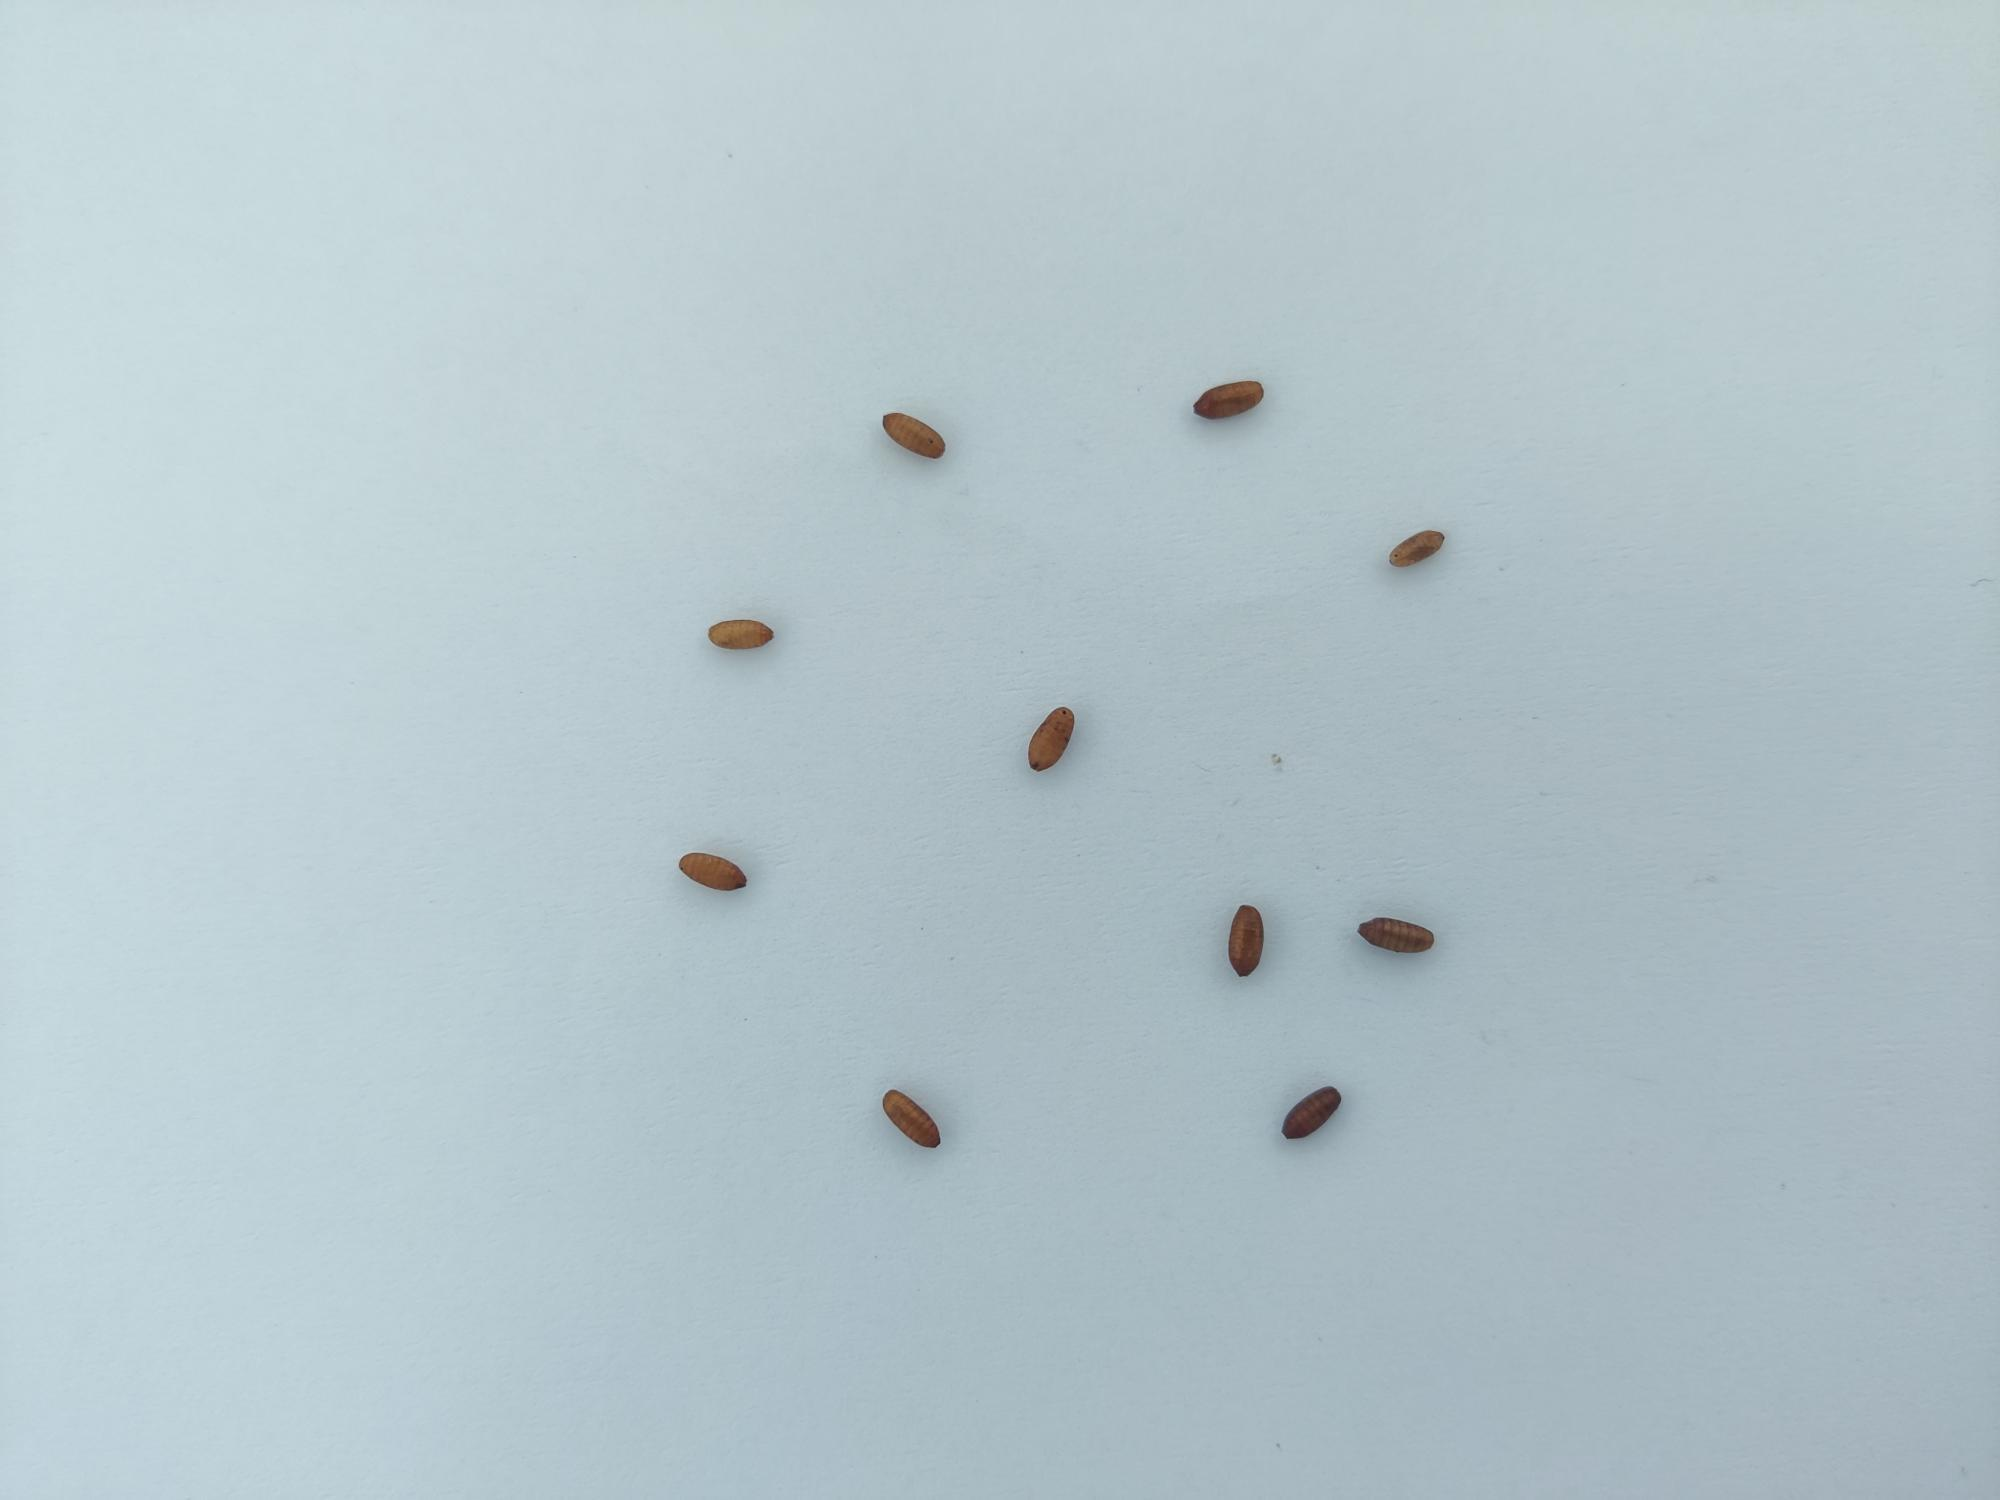pupae: (871, 1081, 953, 1164), (1276, 1073, 1348, 1155), (671, 846, 754, 908), (1020, 701, 1085, 780), (1219, 897, 1271, 994), (1181, 375, 1271, 430), (1351, 911, 1447, 960), (874, 405, 951, 463), (1378, 523, 1454, 577), (699, 616, 781, 660)
